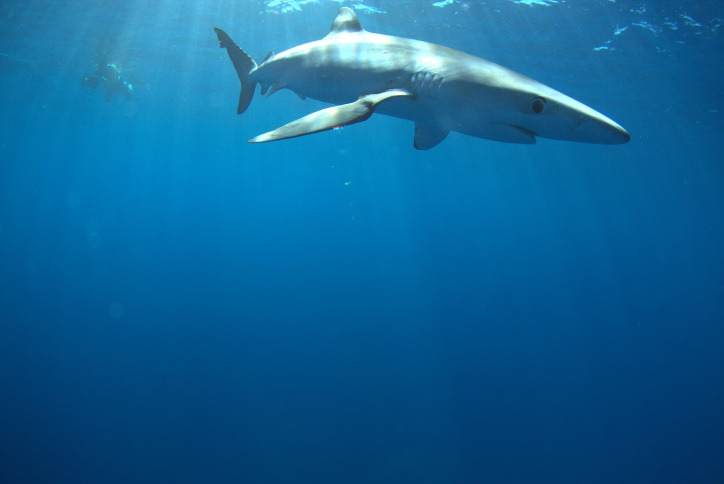Azul: (184, 1, 634, 181)
